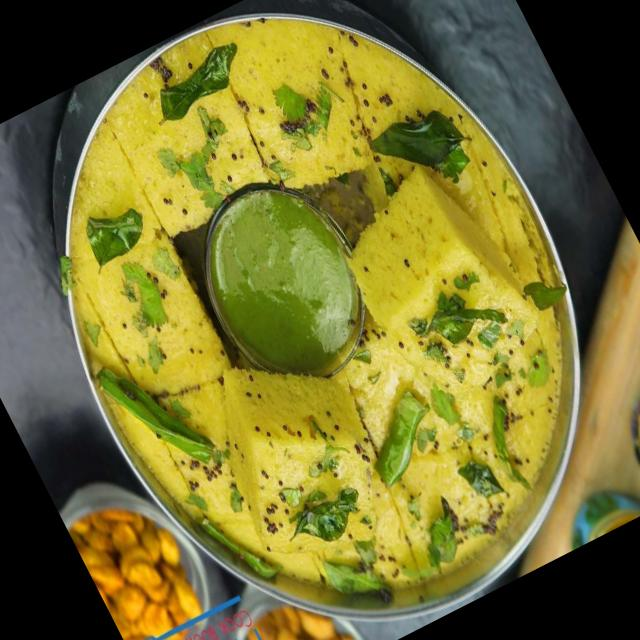dhokla: (2, 0, 633, 640)
